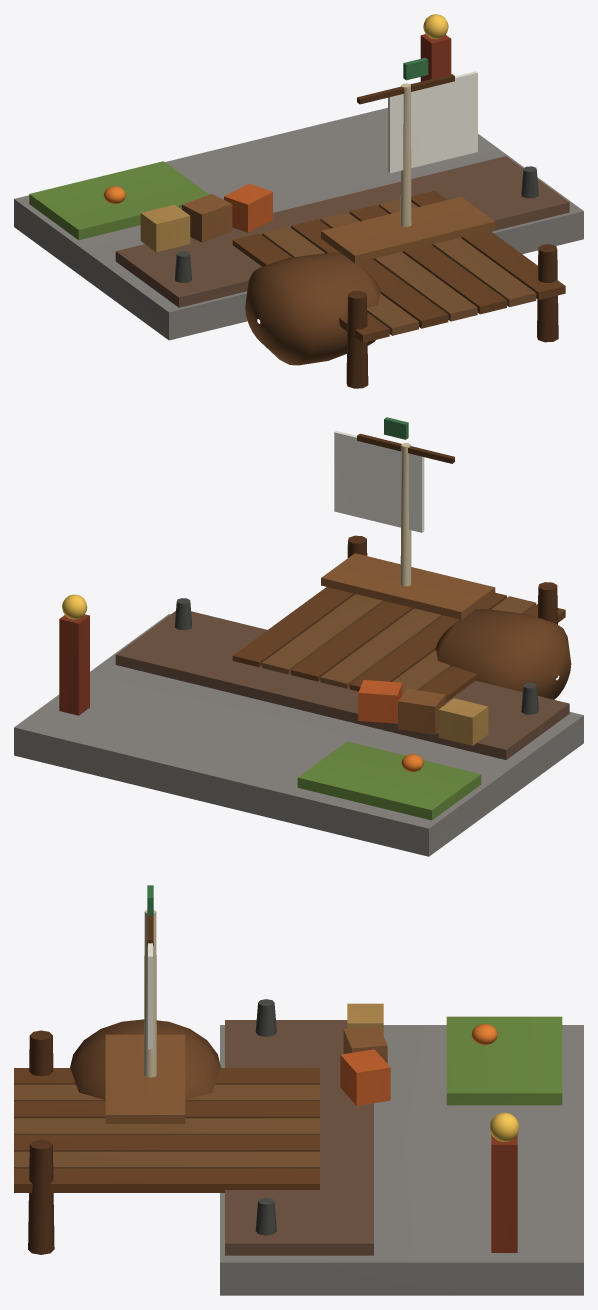
Rendered from valley-harbor.glb.
The picture shows the model from 3 angles, top to bottom: view 1: azimuth 30°, elevation 25°; view 2: azimuth 150°, elevation 25°; view 3: azimuth 270°, elevation 25°; orthographic projection. The views are drawn at different scales.
Parts seen in each view (by area): view 1: quay, quay-edge, hull, grass-tuft, sail, deck, pier-plank-3, pier-plank-4, pier-plank-2, pier-plank-5, pier-plank-6, pier-plank-1 (+12 smaller); view 2: quay, quay-edge, hull, grass-tuft, sail, deck, beacon-post, pier-plank-3, pier-plank-6, pier-plank-4, pier-plank-5, pier-plank-2 (+8 smaller); view 3: quay, quay-edge, grass-tuft, pier-plank-6, deck, pier-plank-5, pier-plank-4, pier-plank-3, hull, pier-plank-2, pier-plank-1, beacon-post (+11 smaller).
Part boxes in pixels (<box>): quay: <box>14,107,583,340</box>; quay-edge: <box>115,156,569,307</box>; hull: <box>245,252,381,365</box>; grass-tuft: <box>29,161,208,240</box>; sail: <box>388,71,477,173</box>; deck: <box>321,196,495,263</box>; pier-plank-3: <box>320,212,477,321</box>; pier-plank-4: <box>349,205,506,314</box>; pier-plank-2: <box>291,219,448,328</box>; pier-plank-5: <box>379,199,536,307</box>; pier-plank-6: <box>411,190,565,299</box>; pier-plank-1: <box>262,226,418,335</box>; quay: <box>14,614,583,856</box>; quay-edge: <box>115,611,569,759</box>; hull: <box>435,609,571,699</box>; grass-tuft: <box>297,741,481,820</box>; sail: <box>334,431,424,532</box>; deck: <box>321,553,495,619</box>; beacon-post: <box>59,614,89,715</box>; pier-plank-3: <box>320,608,443,688</box>; pier-plank-6: <box>232,587,355,667</box>; pier-plank-4: <box>291,601,413,681</box>; pier-plank-5: <box>262,594,384,674</box>; pier-plank-2: <box>349,592,506,691</box>; quay: <box>220,1025,583,1295</box>; quay-edge: <box>225,1020,373,1255</box>; grass-tuft: <box>446,1016,562,1105</box>; pier-plank-6: <box>14,1168,319,1192</box>; deck: <box>105,1034,185,1123</box>; pier-plank-5: <box>14,1151,319,1168</box>; pier-plank-4: <box>14,1135,319,1151</box>; pier-plank-3: <box>14,1118,319,1134</box>; hull: <box>70,1019,220,1101</box>; pier-plank-2: <box>14,1101,319,1118</box>; pier-plank-1: <box>14,1084,319,1101</box>; beacon-post: <box>491,1134,517,1252</box>.
Size of the model in its own units: 3.4 by 2.08 by 3.45.
